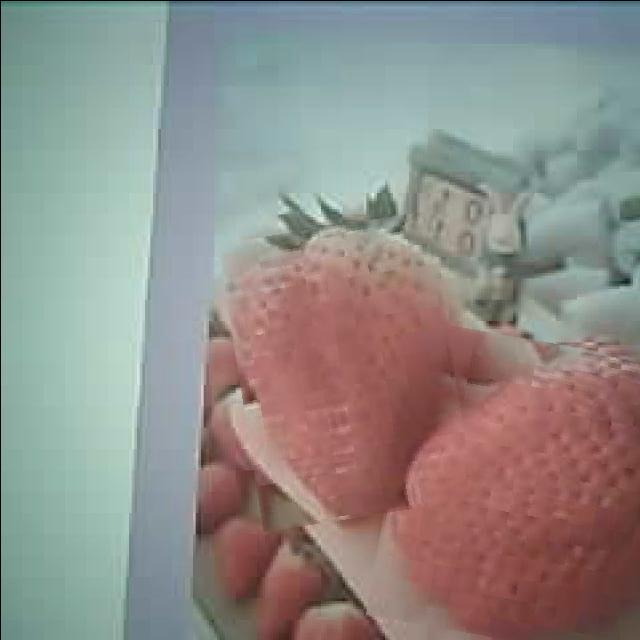strawberry: (378, 328, 640, 640), (229, 217, 465, 524)
